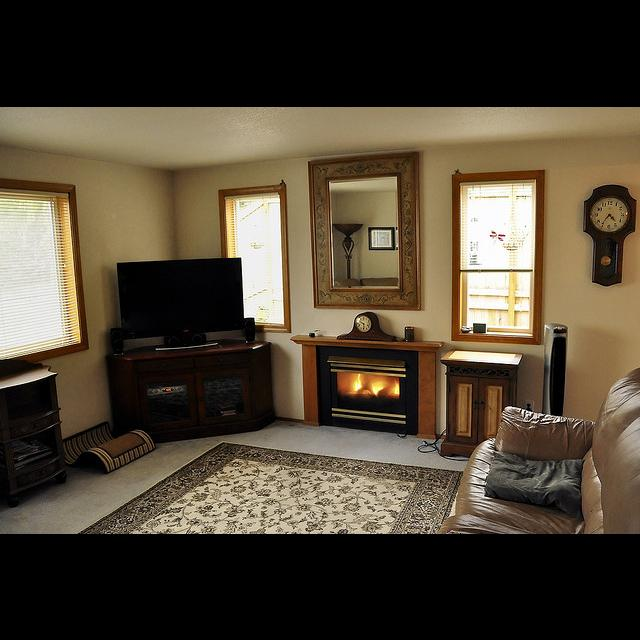Flat-Panel-TV: (117, 255, 246, 350)
